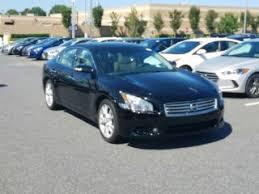car: (40, 43, 232, 144), (40, 43, 226, 144)
